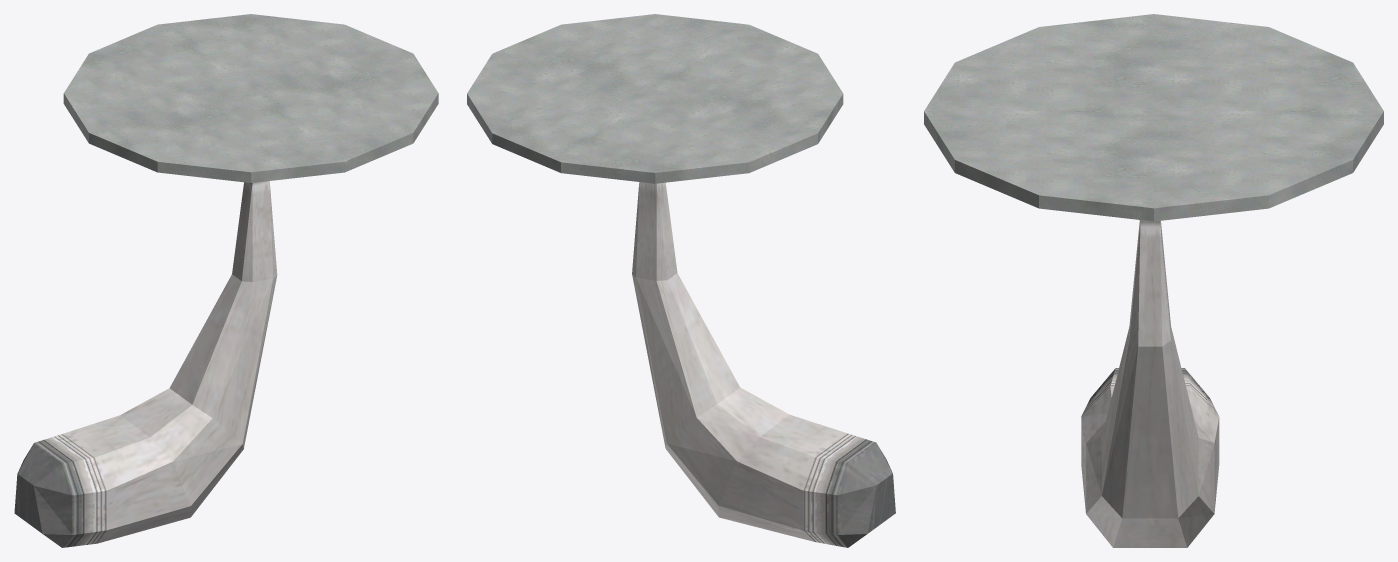
File: frn_all_mdrn_end_table_sml_s01_l1.fbx
The picture shows the model from 3 angles, left to right: view 1: azimuth 30°, elevation 25°; view 2: azimuth 150°, elevation 25°; view 3: azimuth 270°, elevation 25°; orthographic projection. The views are drawn at different scales.
Visible parts, largest first — view 1: mesh_node; view 2: mesh_node; view 3: mesh_node.
Part boxes in pixels (box(x1,y1,x2,y2)): mesh_node: box(14, 14, 438, 547); mesh_node: box(467, 14, 895, 547); mesh_node: box(924, 14, 1383, 547).
Size of the model in its own units: 0.7561 by 0.73 by 0.63.
